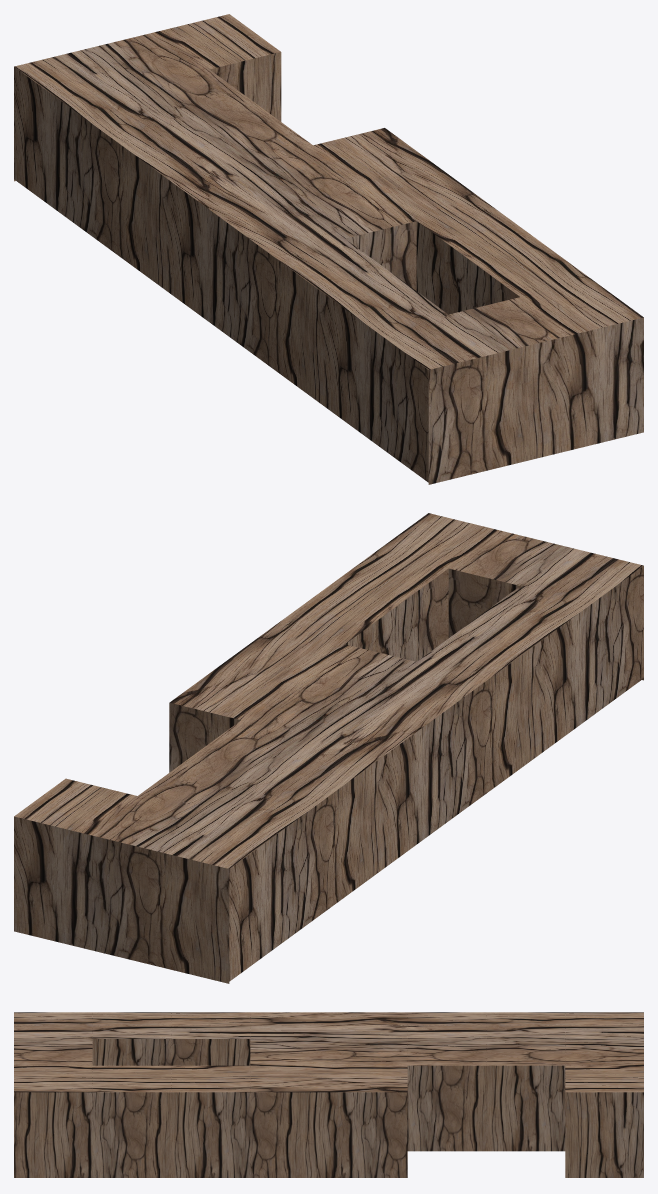
File: bridgeHole2.fbx
3 renders of one model, top to bottom at view 1: azimuth 30°, elevation 25°; view 2: azimuth 150°, elevation 25°; view 3: azimuth 270°, elevation 25°, orthographic. The views are drawn at different scales.
Parts seen in each view (by area): view 1: Plane; view 2: Plane; view 3: Plane.
Boxes of the visible parts, left/top/right/bottom form: Plane: left=14, top=14, right=643, bottom=484; Plane: left=14, top=513, right=643, bottom=983; Plane: left=14, top=1012, right=643, bottom=1177.
Bounding box in the file's own units: 600 × 306 × 2000.
